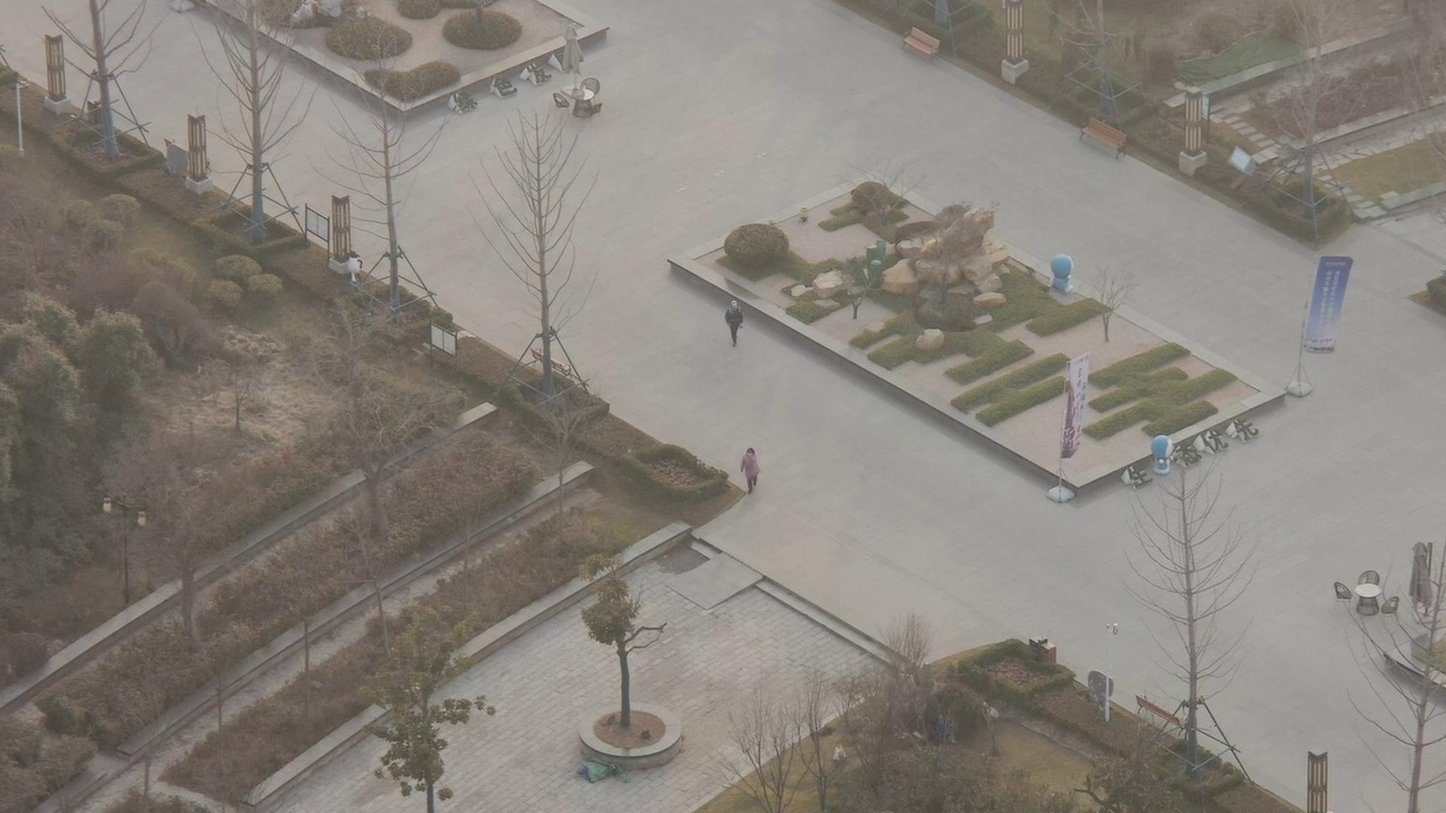human: (737, 433, 775, 511), (718, 257, 755, 334)
